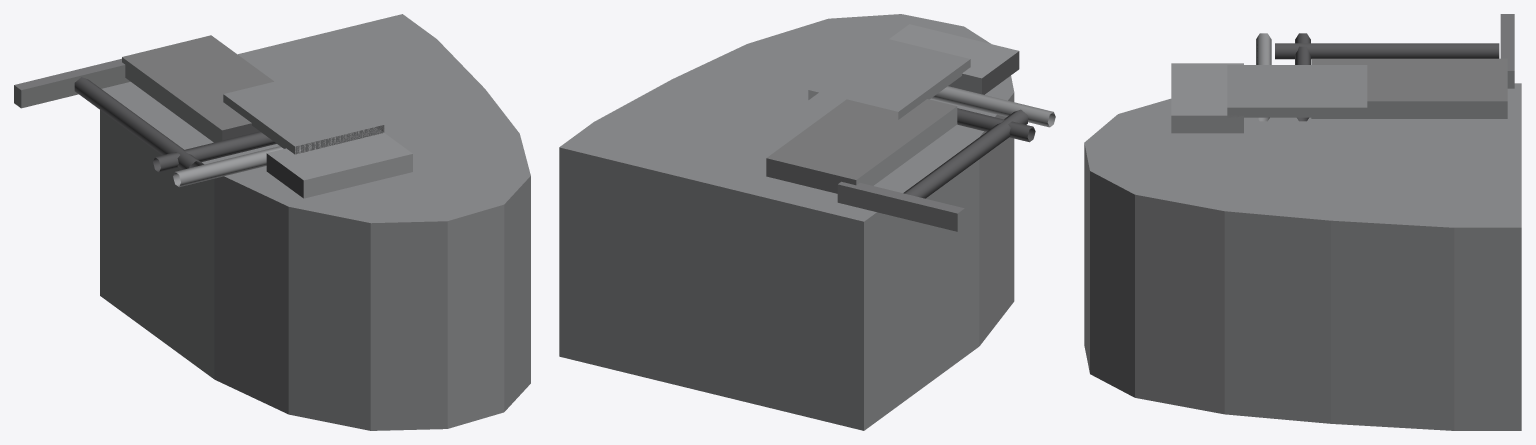
3 views of the same model, side by side, from view 1: azimuth 30°, elevation 25°; view 2: azimuth 150°, elevation 25°; view 3: azimuth 270°, elevation 25° (orthographic). The views are drawn at different scales.
Size of the model in its own units: 0.79 by 0.478 by 0.78.
